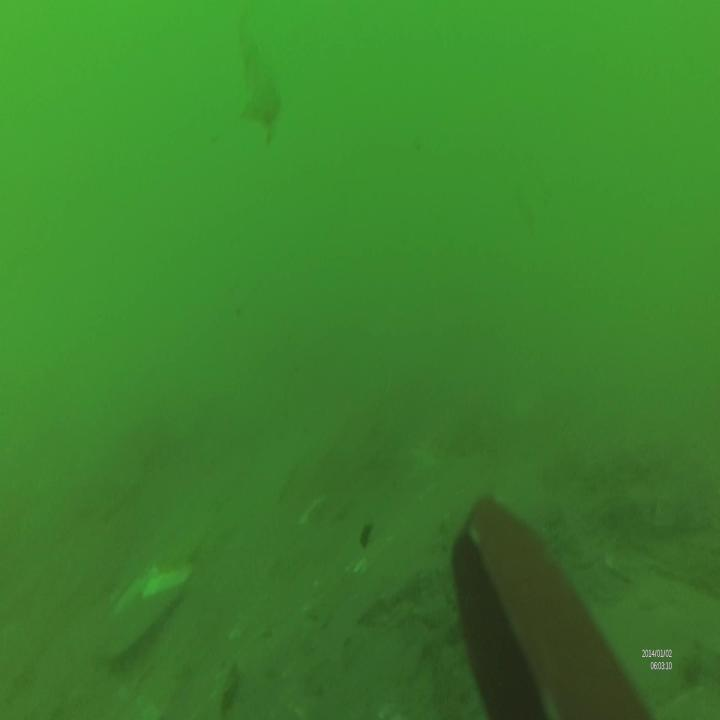scallop: (108, 566, 188, 657)
